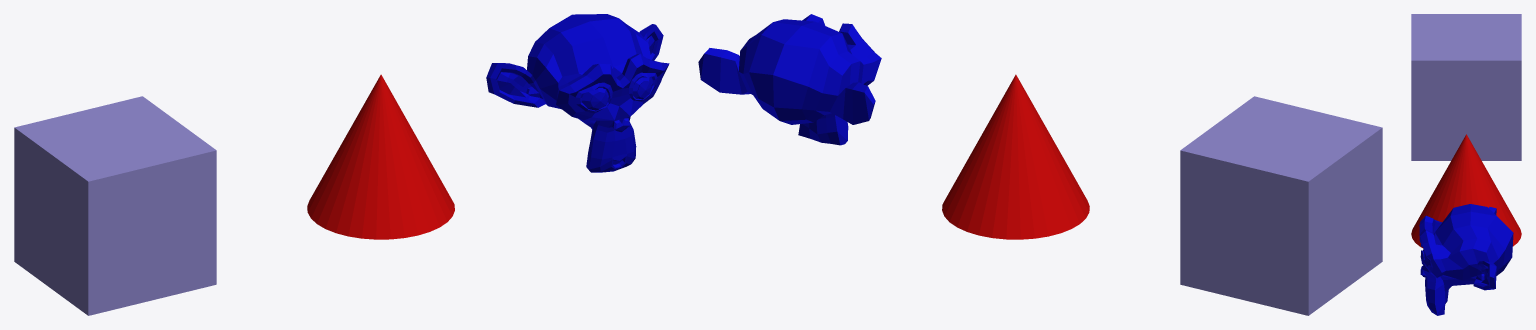
3 views of the same model, side by side, from view 1: azimuth 30°, elevation 25°; view 2: azimuth 150°, elevation 25°; view 3: azimuth 270°, elevation 25° (orthographic). The views are drawn at different scales.
Visible parts, largest first — view 1: Cube, Suzanne, Cone; view 2: Cube, Suzanne, Cone; view 3: Cube, Suzanne, Cone.
Part boxes in pixels (box(x1,y1,x2,y2)): Cube: box(14, 96, 216, 315); Suzanne: box(486, 14, 669, 172); Cone: box(307, 74, 454, 239); Cube: box(1180, 96, 1382, 315); Suzanne: box(698, 14, 881, 145); Cone: box(942, 74, 1089, 239); Cube: box(1411, 14, 1521, 160); Suzanne: box(1419, 204, 1513, 315); Cone: box(1411, 134, 1521, 247).
Size of the model in its own units: 9.8 by 2 by 2.
